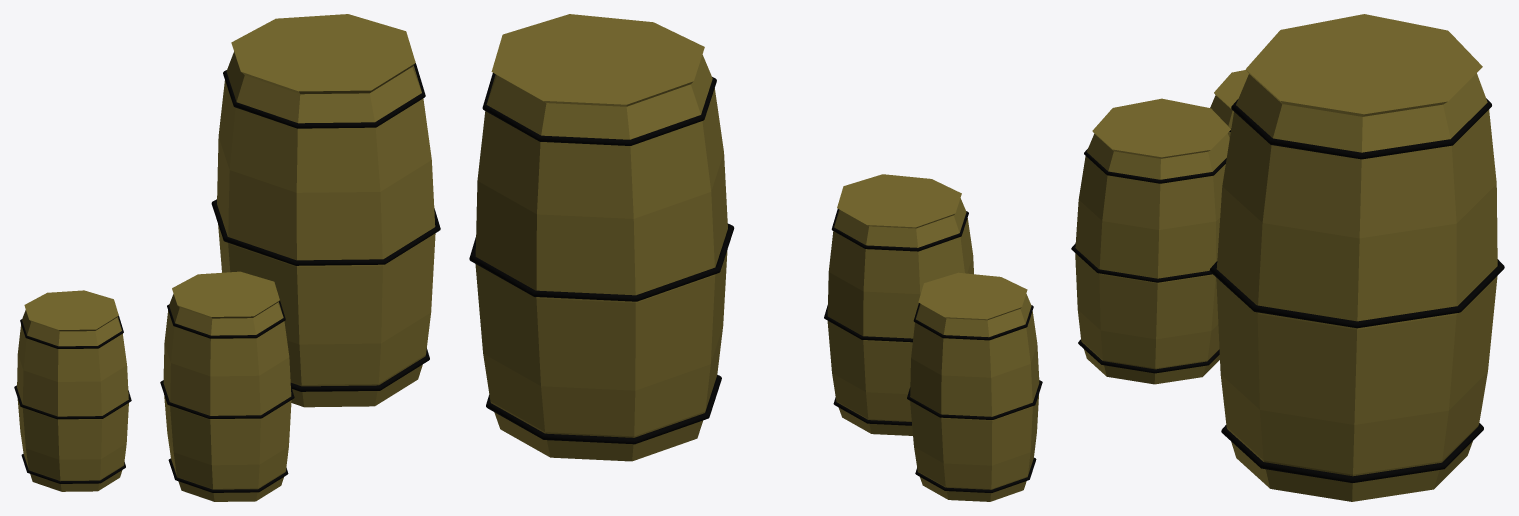
File: barrels.fbx
3 views of the same model, side by side, from view 1: azimuth 30°, elevation 25°; view 2: azimuth 150°, elevation 25°; view 3: azimuth 270°, elevation 25° (orthographic). The views are drawn at different scales.
Parts seen in each view (by area): view 1: Circle, Circle.002, Circle.004, Circle.001, Circle.003, Circle.005; view 2: Circle, Circle.004, Circle.002, Circle.001, Circle.005, Circle.003; view 3: Circle, Circle.002, Circle.001, Circle.003, Circle.004.
Boxes of the visible parts, x1,y1,x2,y2 form: Circle: [217, 14, 435, 407]; Circle.002: [163, 271, 291, 501]; Circle.004: [17, 290, 128, 491]; Circle.001: [211, 63, 440, 391]; Circle.003: [160, 300, 294, 492]; Circle.005: [14, 316, 131, 483]; Circle: [475, 14, 727, 461]; Circle.004: [910, 272, 1039, 501]; Circle.002: [827, 174, 973, 435]; Circle.001: [469, 73, 734, 444]; Circle.005: [907, 303, 1042, 492]; Circle.003: [824, 209, 968, 425]; Circle: [1216, 14, 1497, 501]; Circle.002: [1075, 98, 1230, 384]; Circle.001: [1209, 98, 1504, 482]; Circle.003: [1071, 149, 1226, 373]; Circle.004: [1210, 70, 1248, 137].
Bounding box in the file's own units: 192 × 134 × 131.
